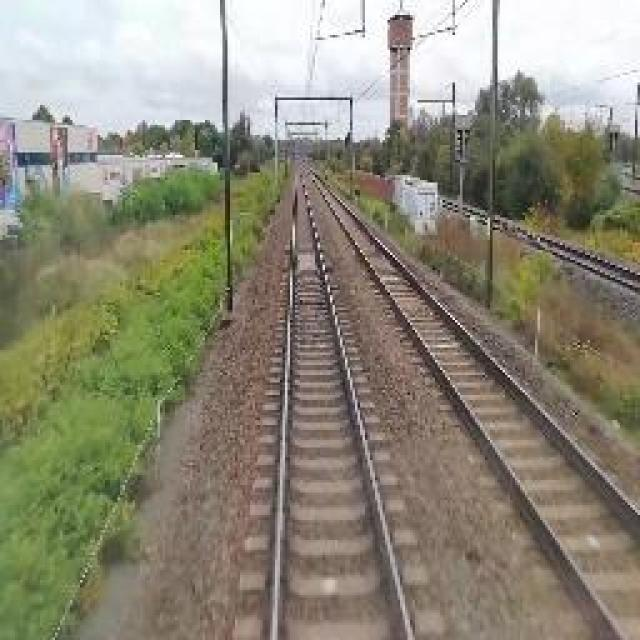rail: (239, 166, 452, 639)
